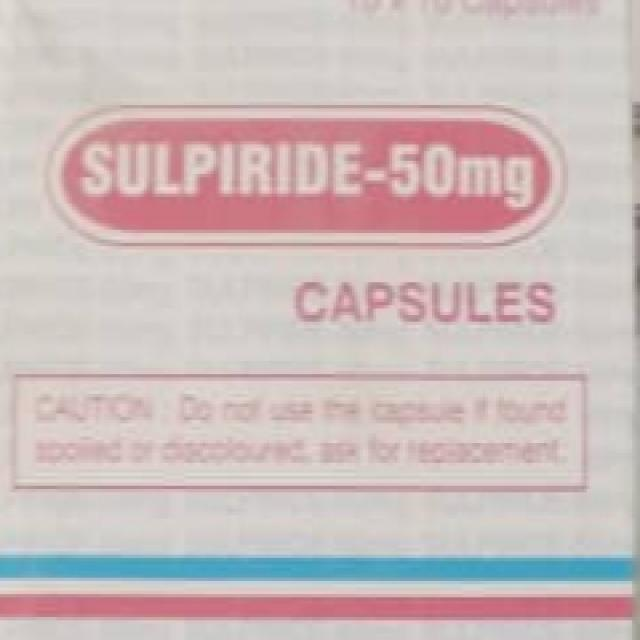drug-name: (71, 138, 368, 204)
